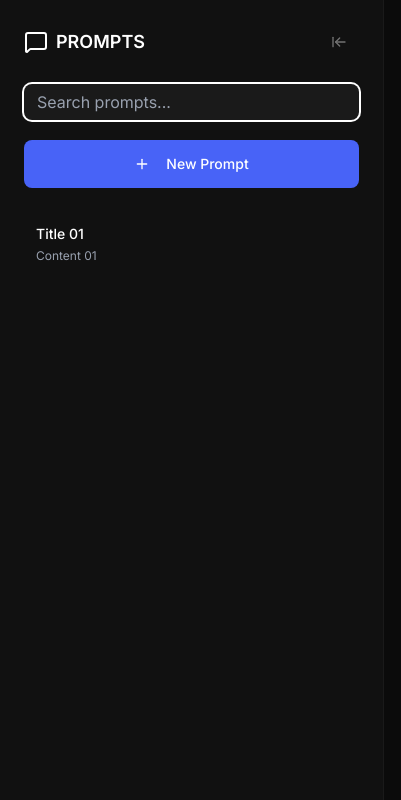
SidebarContent › Collapse / Expand › should collapse and show the expand button
Click the button named "minimize sidebar" at [339, 42], box left=319, top=24, right=359, bottom=60
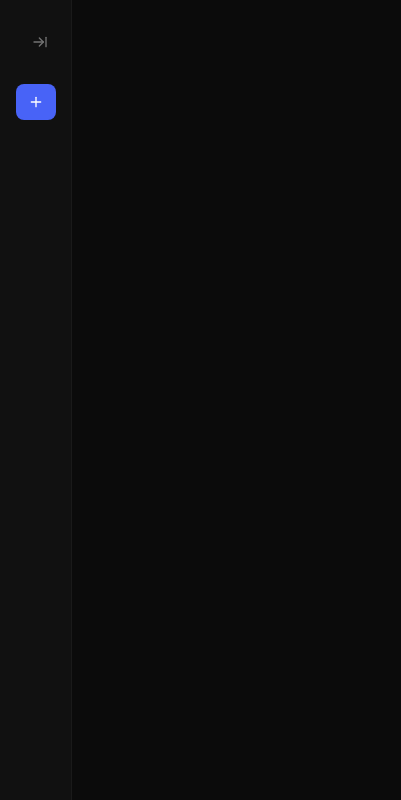
Check: the button named "expand sidebar" is shown, box left=20, top=24, right=60, bottom=60
